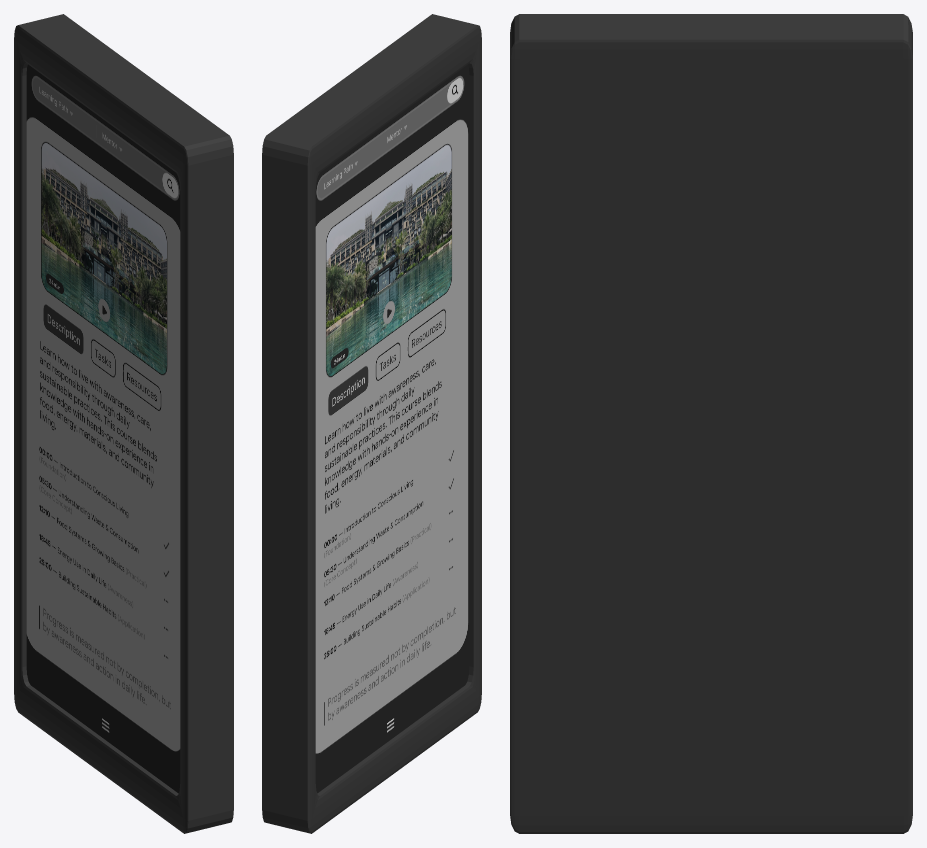
3 renders of one model, left to right at view 1: azimuth 30°, elevation 25°; view 2: azimuth 150°, elevation 25°; view 3: azimuth 270°, elevation 25°, orthographic. The views are drawn at different scales.
Visible parts, largest first — view 1: vi, Cube; view 2: vi, Cube; view 3: Cube.
Part boxes in pixels (box(x1,y1,x2,y2)): vi: box(26, 64, 180, 793); Cube: box(14, 14, 233, 833); vi: box(315, 64, 469, 793); Cube: box(262, 14, 481, 833); Cube: box(510, 14, 912, 833).
Size of the model in its own units: 0.1454 by 2 by 0.9193.
Materials: 2 (1 with a texture image).
